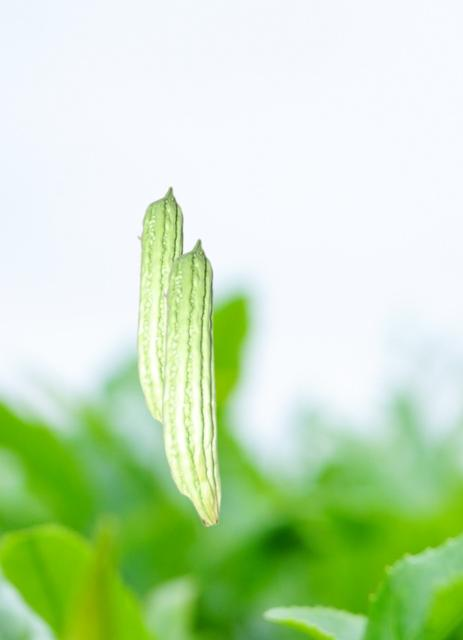ampalaya: (161, 237, 221, 527), (136, 185, 185, 424)
